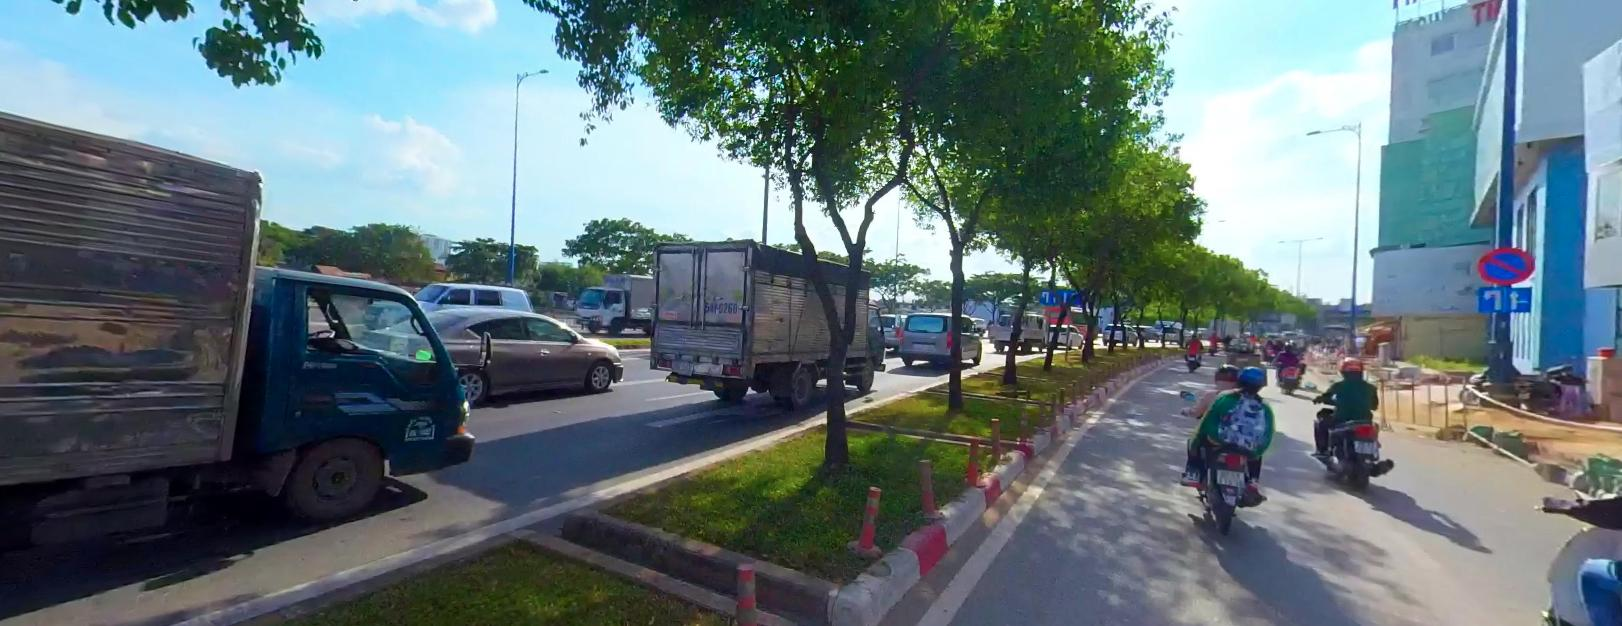Cam dung va do: (1478, 246, 1537, 284)
